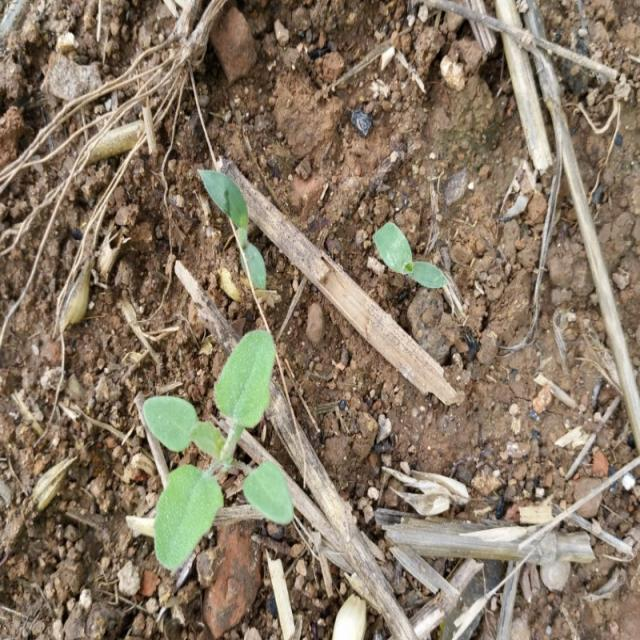ca: (144, 331, 292, 570)
